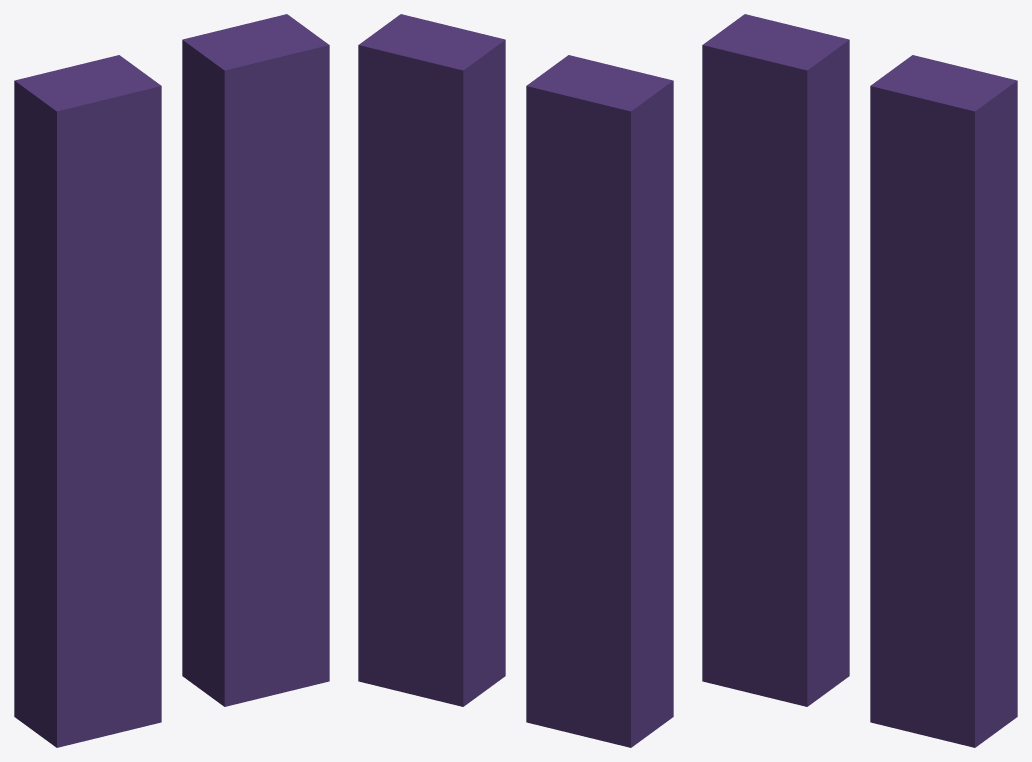
The model's file is ram.obj.
3 renders of one model, left to right at view 1: azimuth 30°, elevation 25°; view 2: azimuth 150°, elevation 25°; view 3: azimuth 330°, elevation 25°, orthographic.
Visible parts, largest first — view 1: ram.001, ram.002; view 2: ram.001, ram.002; view 3: ram.001, ram.002.
Boxes of the visible parts, x1,y1,x2,y2 form: ram.001: (14, 55, 161, 747); ram.002: (182, 14, 329, 706); ram.001: (526, 55, 673, 747); ram.002: (358, 14, 505, 706); ram.001: (702, 14, 849, 706); ram.002: (870, 55, 1017, 747).
Size of the model in its own units: 0.052 by 0.116 by 0.014.
